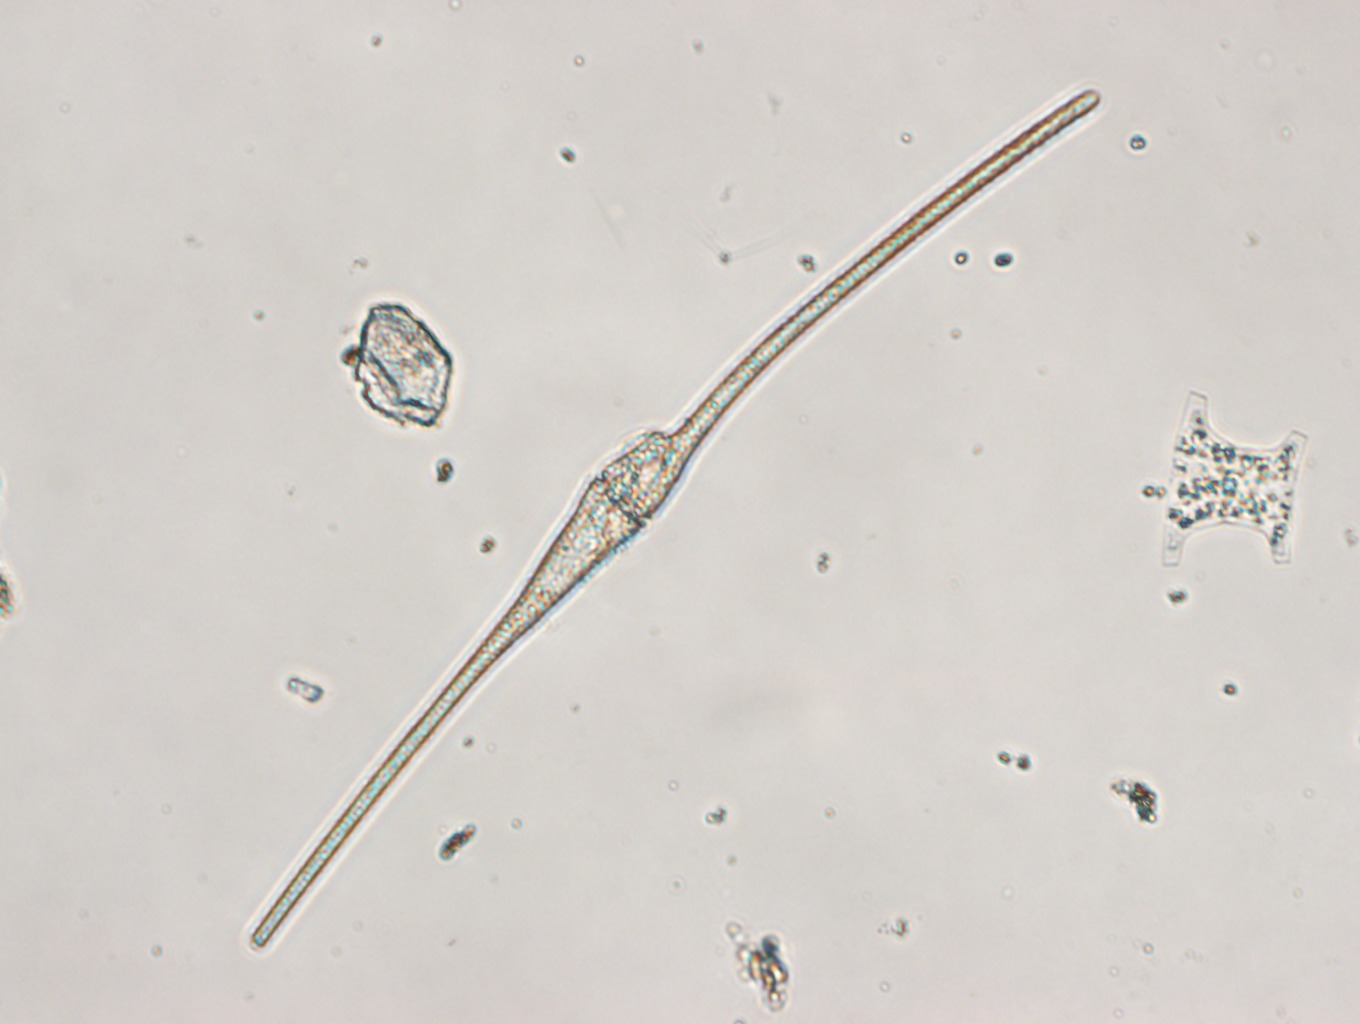ceratium fusus: (247, 84, 1104, 954)
eucampia: (1157, 383, 1311, 574)
